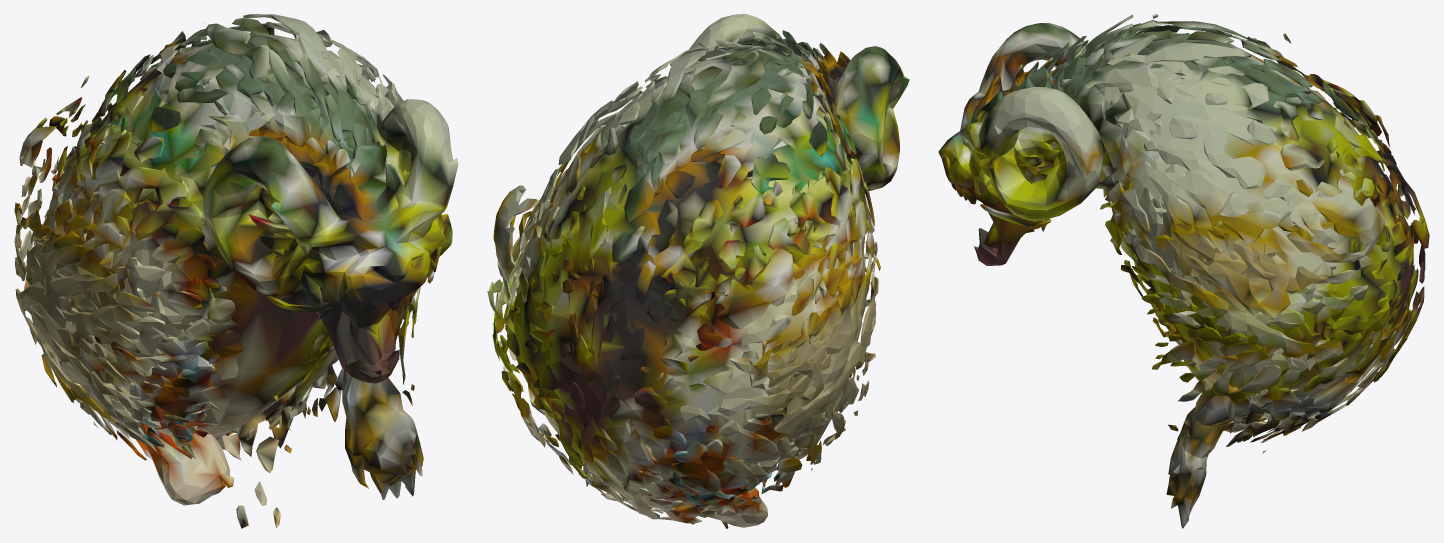
Rendered from metalSlime.glb.
The picture shows the model from 3 angles, left to right: view 1: azimuth 30°, elevation 25°; view 2: azimuth 150°, elevation 25°; view 3: azimuth 270°, elevation 25°; orthographic projection. The views are drawn at different scales.
Parts seen in each view (by area): view 1: world; view 2: world; view 3: world.
Boxes of the visible parts, <box> form: world: <box>14,14,458,528</box>; world: <box>487,14,909,528</box>; world: <box>938,14,1429,528</box>.
Bounding box in the file's own units: 0.7758 × 1 × 1.01.
